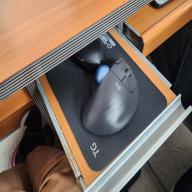mouse: (80, 56, 140, 136)
